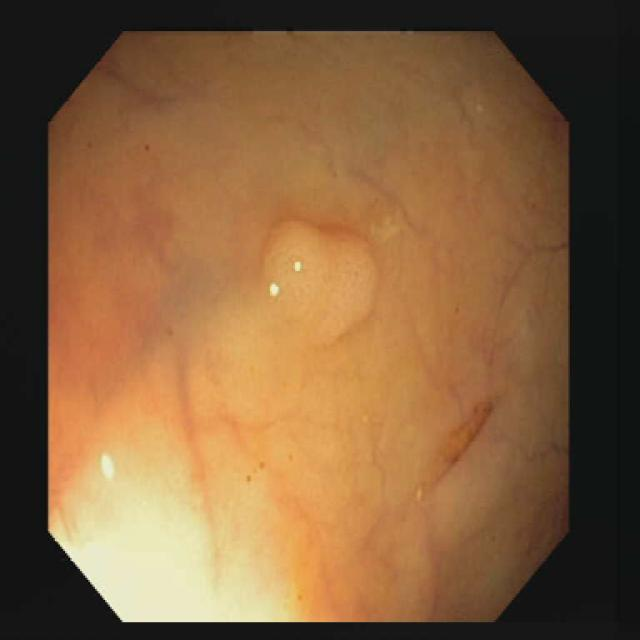tumor: (262, 220, 375, 340)
